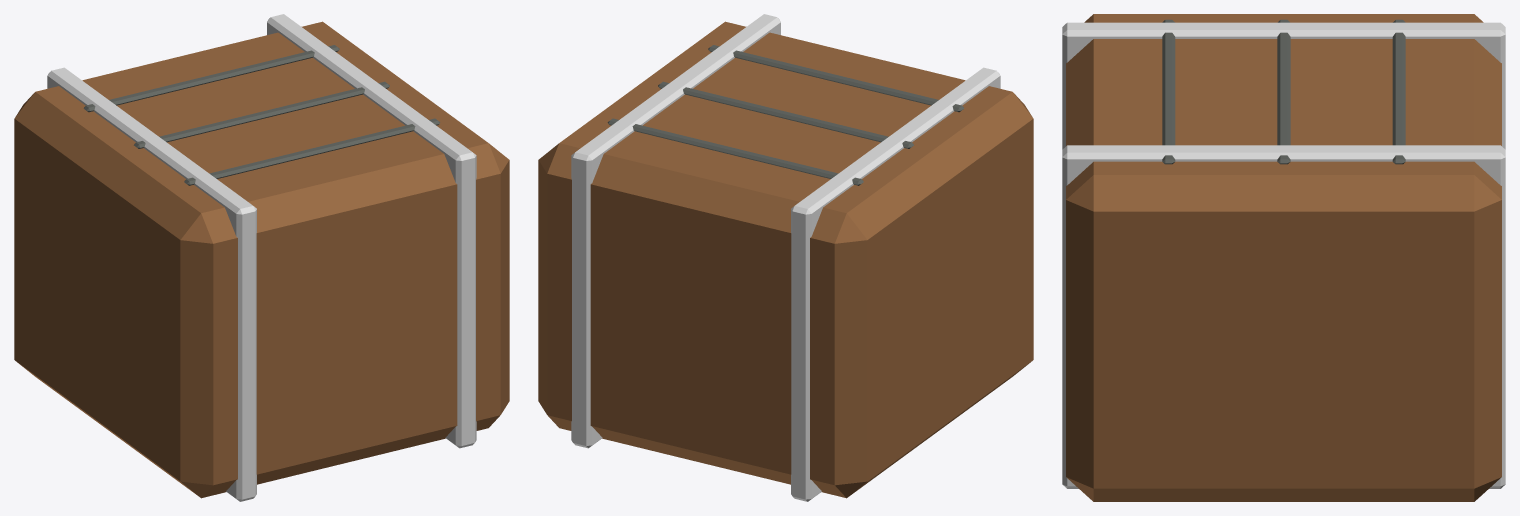
Rendered from terrain-block.glb.
3 renders of one model, left to right at view 1: azimuth 30°, elevation 25°; view 2: azimuth 150°, elevation 25°; view 3: azimuth 270°, elevation 25°, orthographic. The views are drawn at different scales.
Parts seen in each view (by area): view 1: terrain-block; view 2: terrain-block; view 3: terrain-block.
Boxes of the visible parts, box(x1,y1,x2,y2) form: terrain-block: box(14, 14, 509, 501); terrain-block: box(538, 14, 1033, 501); terrain-block: box(1062, 14, 1505, 501).
Bounding box in the file's own units: 0.87 × 0.74 × 0.885.
